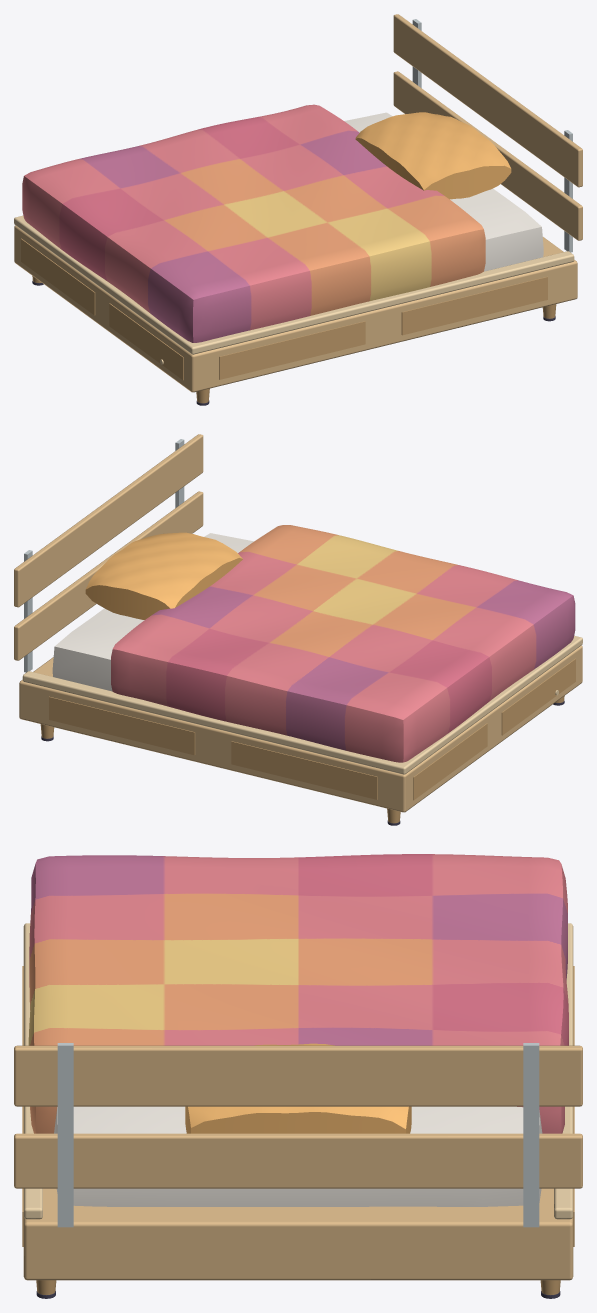
Rendered from lit.glb.
3 renders of one model, top to bottom at view 1: azimuth 30°, elevation 25°; view 2: azimuth 150°, elevation 25°; view 3: azimuth 270°, elevation 25°, orthographic. The views are drawn at different scales.
Parts seen in each view (by area): view 1: lit; view 2: lit; view 3: lit.
Boxes of the visible parts, left/top/right/bottom form: lit: left=14, top=14, right=582, bottom=405; lit: left=14, top=434, right=582, bottom=825; lit: left=14, top=854, right=582, bottom=1298.
Bounding box in the file's own units: 2.16 × 0.92 × 1.76.
Materials: 8 (1 with a texture image).
